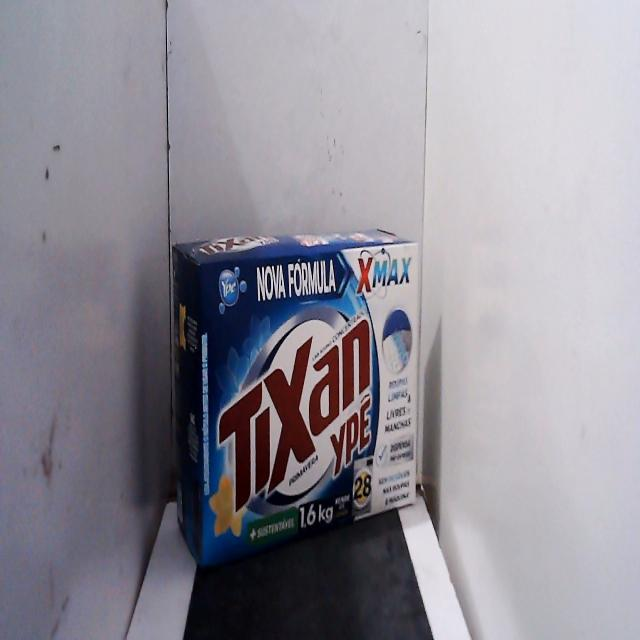papel: (160, 216, 426, 579)
